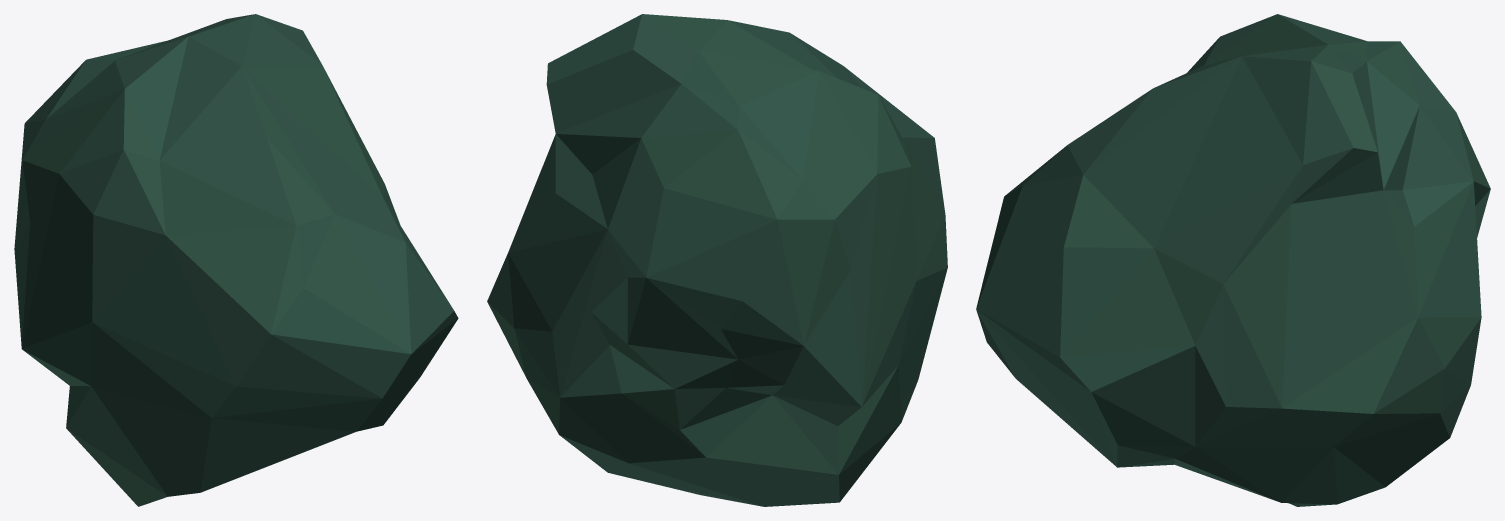
File: SM_large_rock_09.fbx
3 renders of one model, left to right at view 1: azimuth 30°, elevation 25°; view 2: azimuth 150°, elevation 25°; view 3: azimuth 270°, elevation 25°, orthographic. The views are drawn at different scales.
Parts seen in each view (by area): view 1: large_rock_09; view 2: large_rock_09; view 3: large_rock_09.
Boxes of the visible parts, left/top/right/bottom form: large_rock_09: left=14, top=14, right=458, bottom=506; large_rock_09: left=487, top=14, right=947, bottom=506; large_rock_09: left=976, top=14, right=1490, bottom=506.
Bounding box in the file's own units: 41.92 × 51.86 × 50.44.
